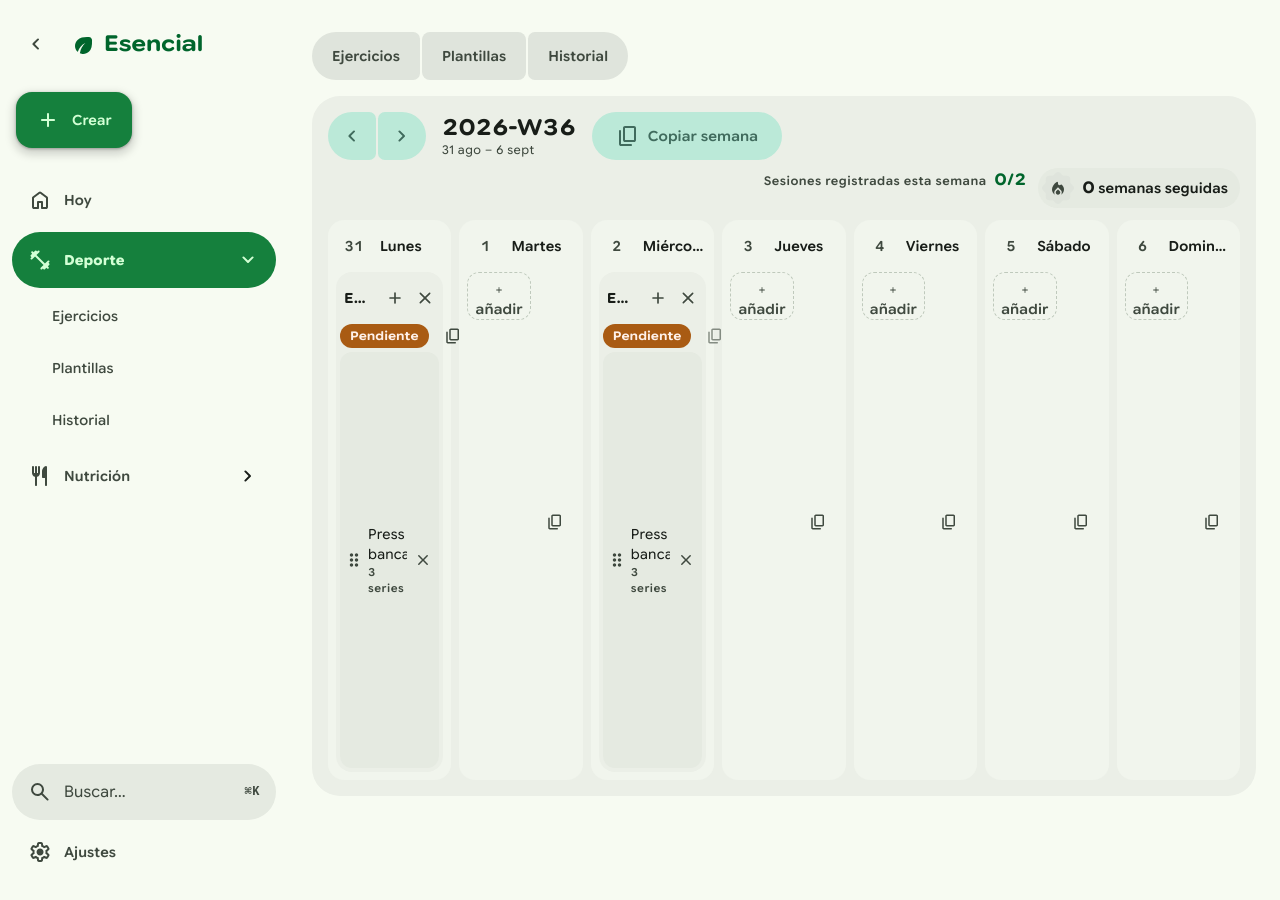
Test: copiar un día a otro día › un destino con un borrador con trabajo sin registrar tampoco admite la copia
Check: the heading "2026-W36" is shown, box 442,114 -> 576,142
Click the button named "Copiar al mié 2 sept" at x=715, y=336, box 695,316 -> 735,356
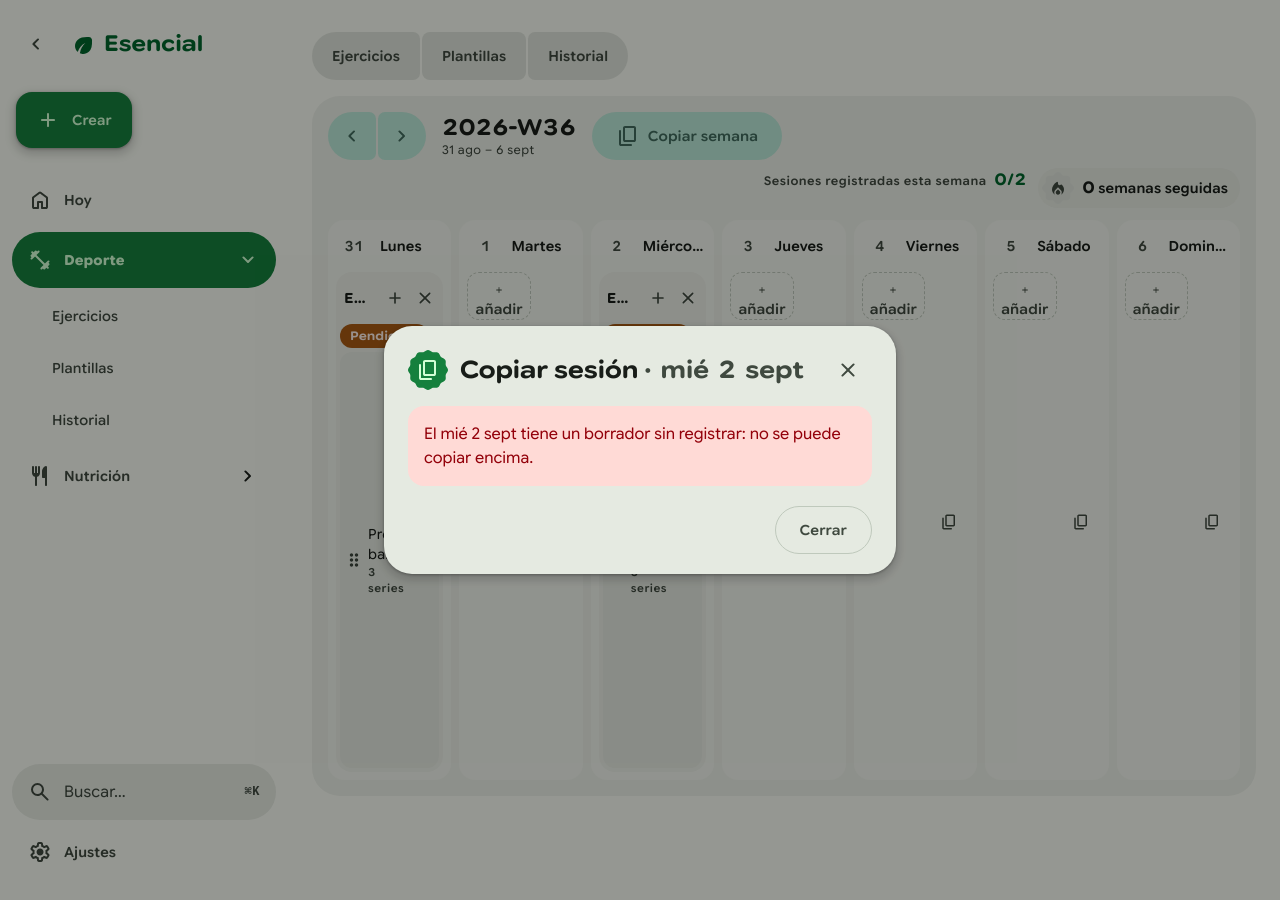
Check: the text "El mié 2 sept tiene un borrador sin registrar: no se puede copiar encima." is shown, box 408,406 -> 872,486
